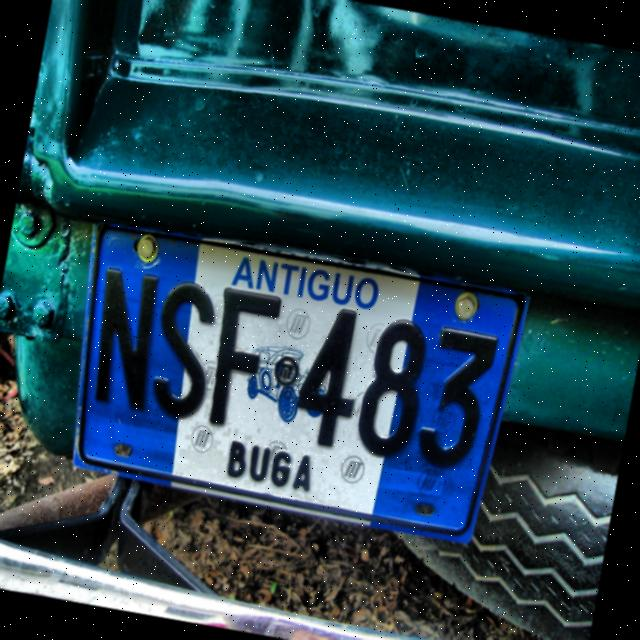plate: (76, 222, 527, 537)
